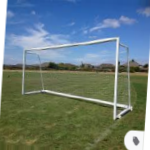goals: (19, 35, 135, 121)
